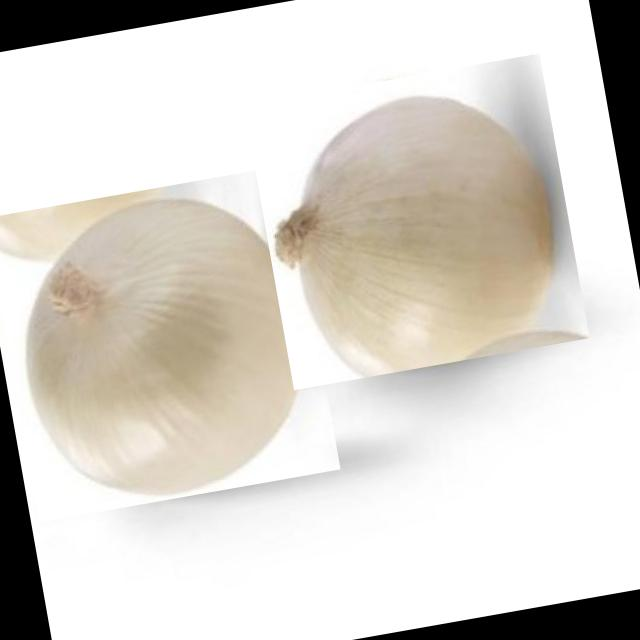Onion: (0, 164, 340, 521), (245, 50, 588, 392)
